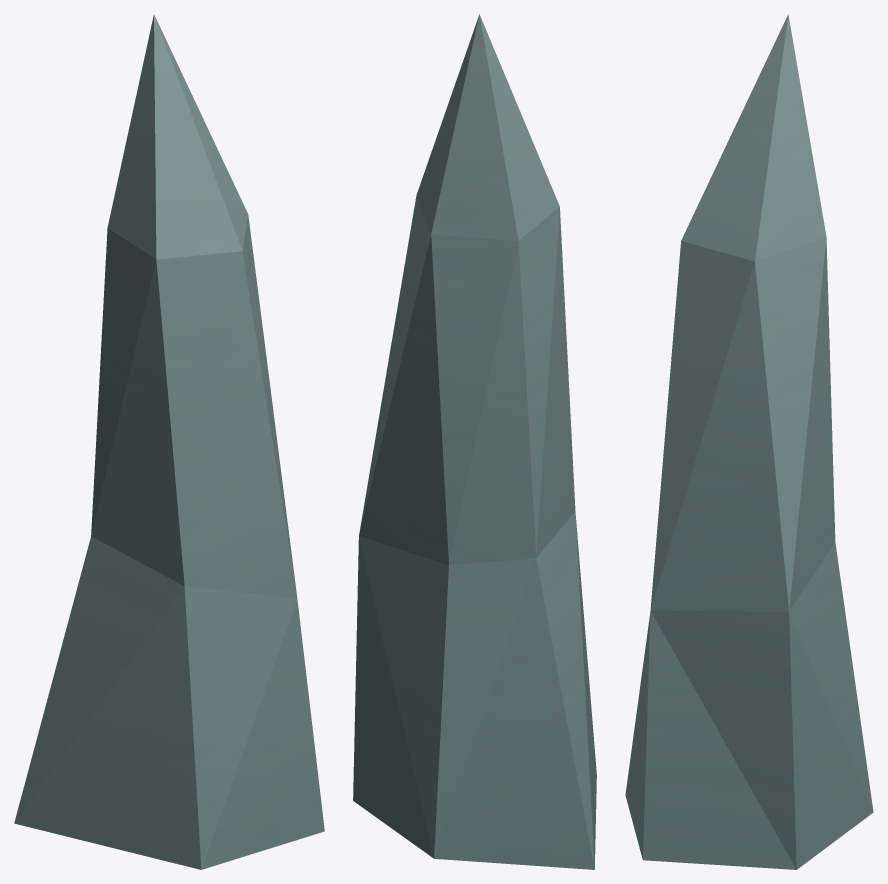
Rendered from icicle_D.obj.
The picture shows the model from 3 angles, left to right: view 1: azimuth 30°, elevation 25°; view 2: azimuth 150°, elevation 25°; view 3: azimuth 270°, elevation 25°; orthographic projection. The views are drawn at different scales.
Parts seen in each view (by area): view 1: icicle_D; view 2: icicle_D; view 3: icicle_D.
Part boxes in pixels (<box>): icicle_D: <box>14,14,324,869</box>; icicle_D: <box>353,14,596,869</box>; icicle_D: <box>625,14,873,869</box>.
Size of the model in its own units: 0.1273 by 0.3928 by 0.1107.
